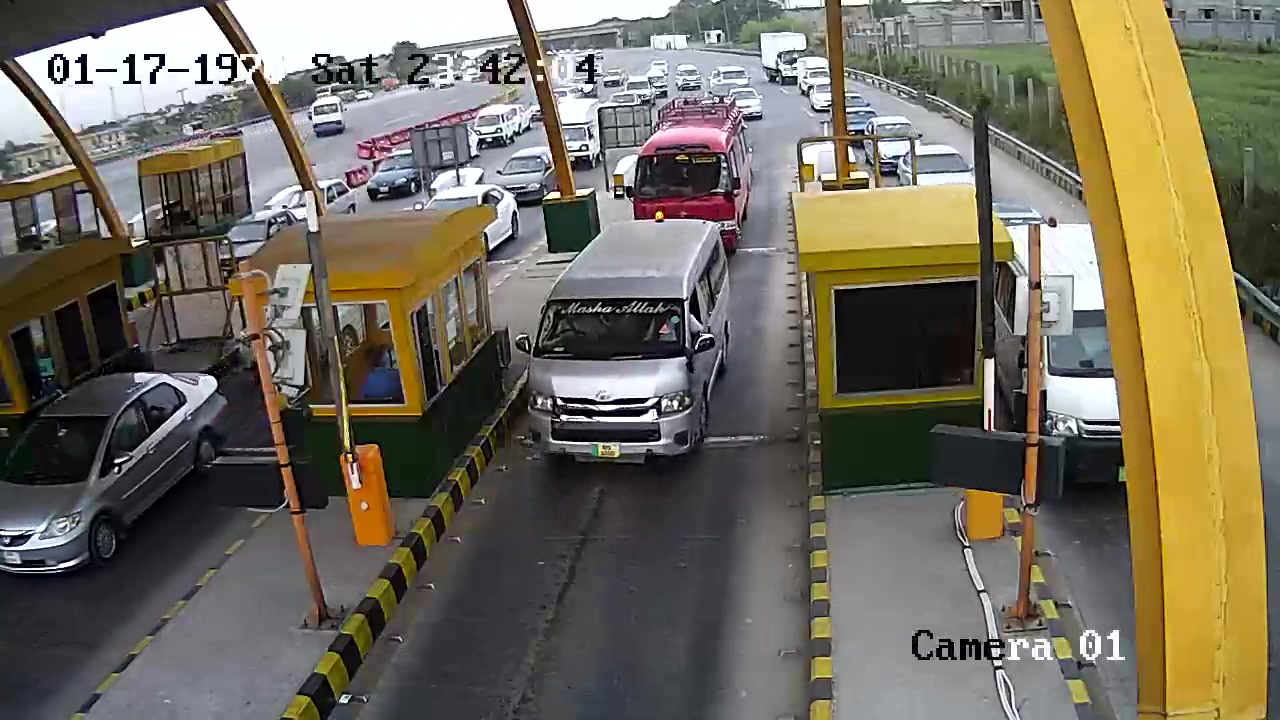F2: (526, 209, 729, 463)
